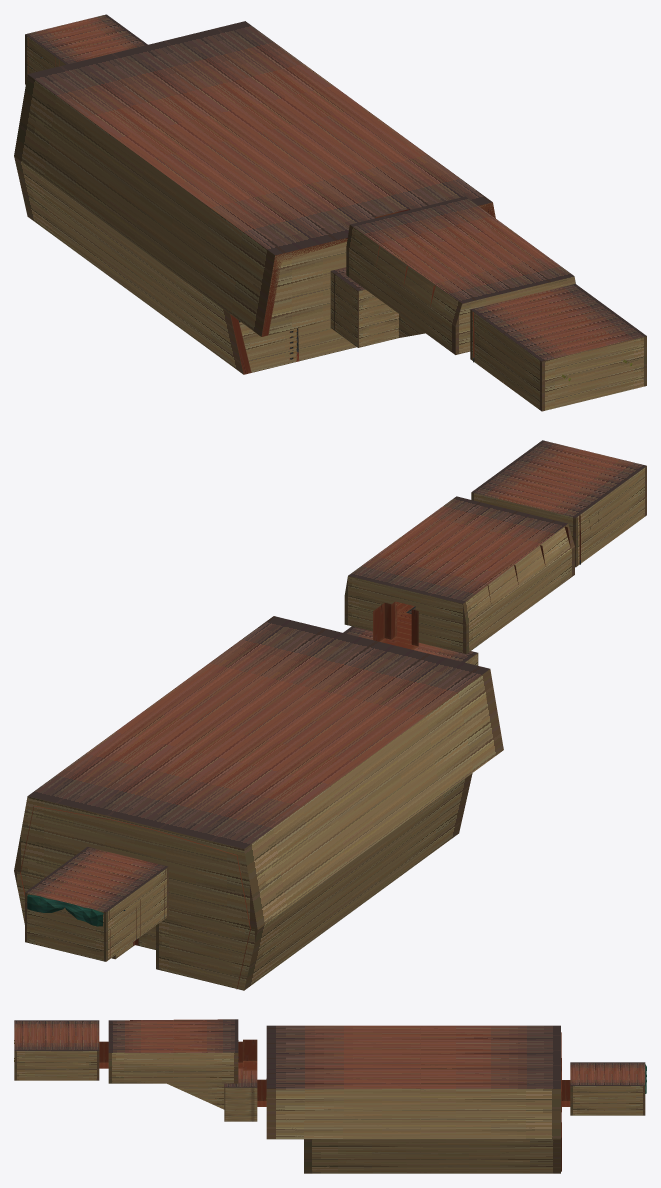
File: Pirate Ship Interior.dae
The picture shows the model from 3 angles, top to bottom: view 1: azimuth 30°, elevation 25°; view 2: azimuth 150°, elevation 25°; view 3: azimuth 270°, elevation 25°; orthographic projection. The views are drawn at different scales.
Visible parts, largest first — view 1: mesh-40, mesh-39, mesh-4, mesh-55, mesh-3, mesh-56, mesh-14, mesh-26, mesh-33, mesh-25; view 2: mesh-39, mesh-40, mesh-4, mesh-3, mesh-56, mesh-25, mesh-26, mesh-55, mesh-29, mesh-1, mesh-16; view 3: mesh-39, mesh-40, mesh-4, mesh-3, mesh-56, mesh-55, mesh-25, mesh-14, mesh-26, mesh-16, mesh-1, mesh-0 (+3 smaller).
Part boxes in pixels (x1=…): mesh-40: x1=28, y1=21, x2=492, y2=255; mesh-39: x1=14, y1=74, x2=494, y2=374; mesh-4: x1=350, y1=196, x2=573, y2=303; mesh-55: x1=470, y1=309, x2=646, y2=411; mesh-3: x1=346, y1=225, x2=575, y2=354; mesh-56: x1=471, y1=283, x2=646, y2=361; mesh-14: x1=330, y1=271, x2=425, y2=347; mesh-26: x1=25, y1=14, x2=147, y2=64; mesh-33: x1=261, y1=202, x2=495, y2=336; mesh-25: x1=25, y1=34, x2=65, y2=84; mesh-39: x1=14, y1=669, x2=503, y2=990; mesh-40: x1=28, y1=616, x2=489, y2=848; mesh-4: x1=348, y1=496, x2=567, y2=603; mesh-3: x1=344, y1=524, x2=574, y2=654; mesh-56: x1=472, y1=440, x2=646, y2=517; mesh-25: x1=25, y1=867, x2=168, y2=961; mesh-26: x1=25, y1=847, x2=168, y2=912; mesh-55: x1=471, y1=466, x2=646, y2=567; mesh-29: x1=27, y1=894, x2=103, y2=926; mesh-1: x1=373, y1=603, x2=418, y2=646; mesh-16: x1=343, y1=626, x2=477, y2=662; mesh-39: x1=266, y1=1089, x2=560, y2=1173; mesh-40: x1=266, y1=1025, x2=560, y2=1088; mesh-4: x1=108, y1=1019, x2=238, y2=1052; mesh-3: x1=108, y1=1053, x2=238, y2=1083; mesh-56: x1=14, y1=1020, x2=99, y2=1050; mesh-55: x1=14, y1=1051, x2=99, y2=1080; mesh-25: x1=570, y1=1086, x2=645, y2=1115; mesh-14: x1=167, y1=1083, x2=257, y2=1121; mesh-26: x1=570, y1=1062, x2=645, y2=1085; mesh-16: x1=224, y1=1068, x2=257, y2=1087; mesh-1: x1=243, y1=1039, x2=257, y2=1060; mesh-0: x1=238, y1=1041, x2=257, y2=1070.
Bounding box in the file's own units: 1800 × 6771 × 1250.
24 materials, 24 textured.
